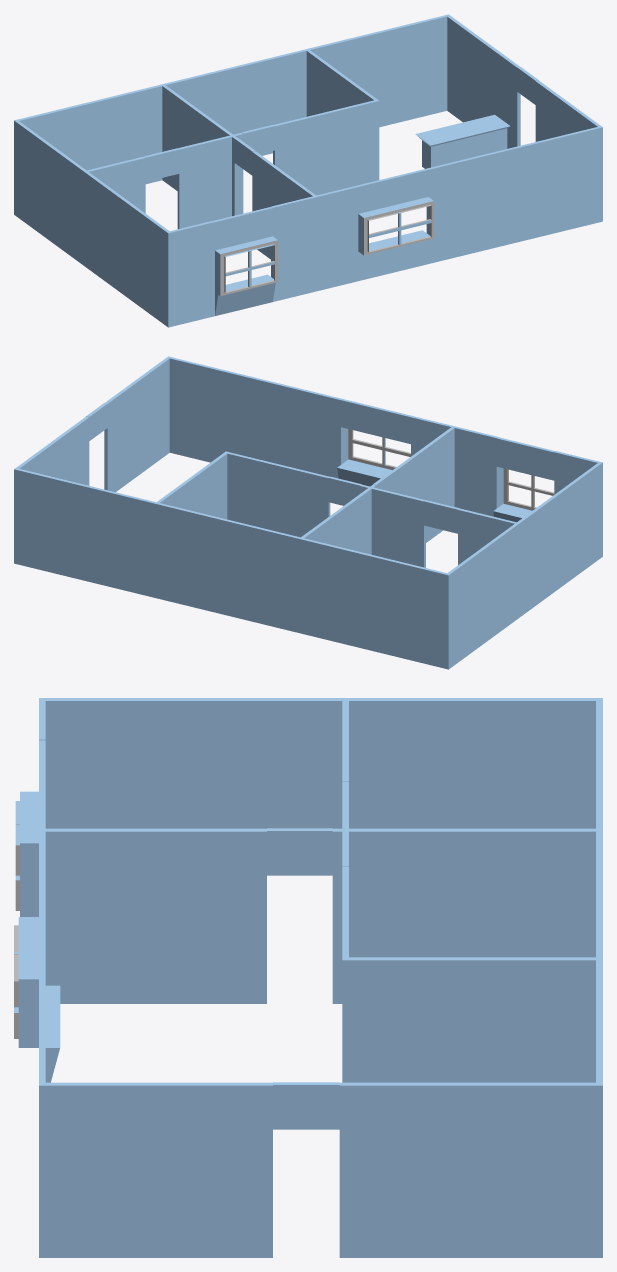
Rendered from casa3zero.obj.
The picture shows the model from 3 angles, top to bottom: view 1: azimuth 30°, elevation 25°; view 2: azimuth 150°, elevation 25°; view 3: azimuth 270°, elevation 25°; orthographic projection. The views are drawn at different scales.
Parts seen in each view (by area): view 1: Plane; view 2: Plane; view 3: Plane.
Part boxes in pixels (x1,y1,x2,y2): Plane: (14,14,602,327); Plane: (14,356,602,669); Plane: (14,698,602,1257).
Size of the model in its own units: 3.37 by 0.7 by 2.16.
